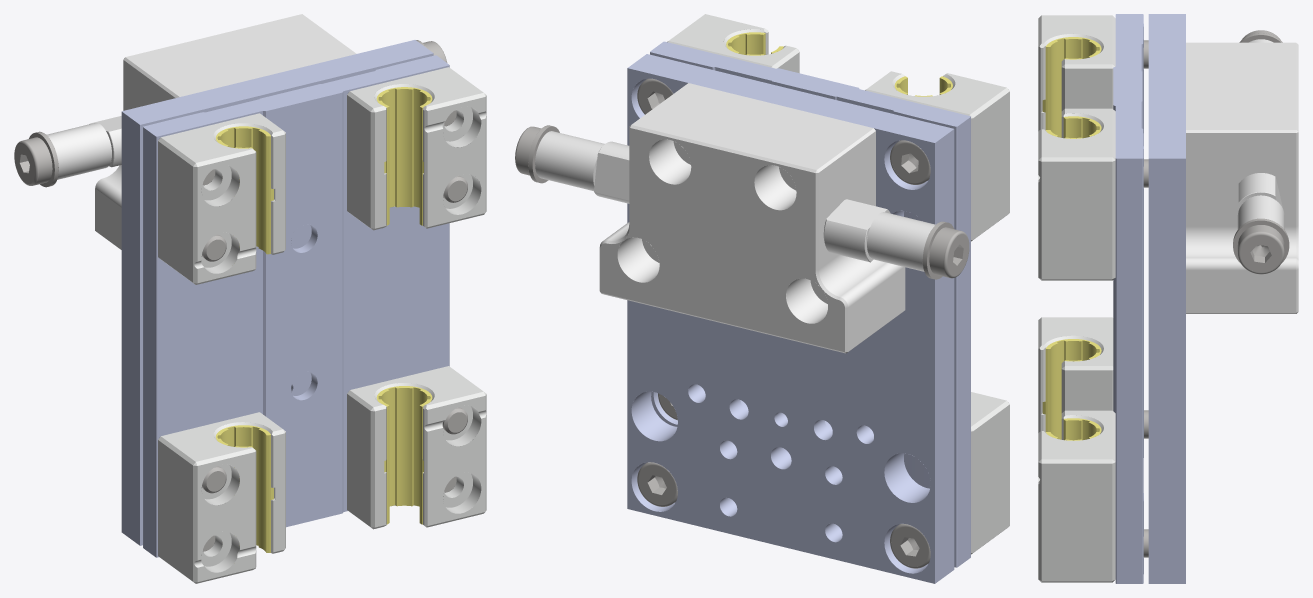
Rendered from IGUS_Delta_Carriage.glb.
The picture shows the model from 3 angles, left to right: view 1: azimuth 30°, elevation 25°; view 2: azimuth 150°, elevation 25°; view 3: azimuth 270°, elevation 25°; orthographic projection. The views are drawn at different scales.
Visible parts, largest first — view 1: IGUS_Delta_Carriage.IGS (×13); view 2: IGUS_Delta_Carriage.IGS (×15); view 3: IGUS_Delta_Carriage.IGS (×14).
Part boxes in pixels (x1,y1,x2,y2): IGUS_Delta_Carriage.IGS (×13): (14,14,486,583); IGUS_Delta_Carriage.IGS (×15): (515,14,1009,583); IGUS_Delta_Carriage.IGS (×14): (1038,14,1298,583).
Bounding box in the file's own units: 0.1026 × 0.1 × 0.0555.
